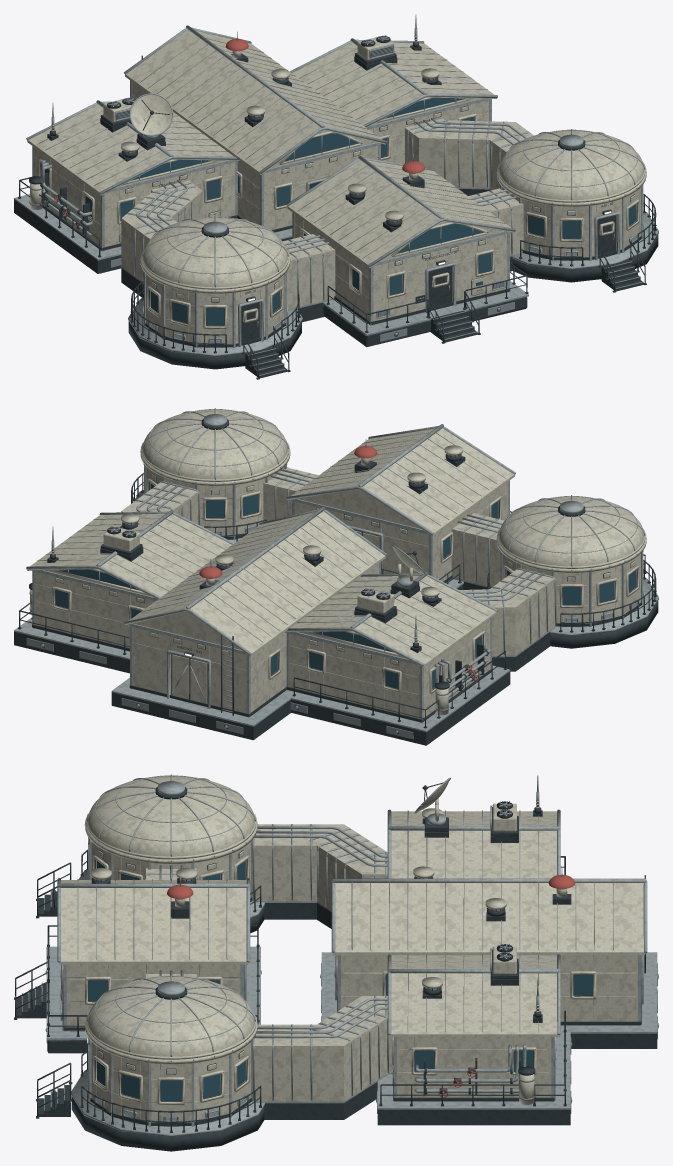
Rendered from SurfaceResearchStation_LOD1.fbx.
3 renders of one model, top to bottom at view 1: azimuth 30°, elevation 25°; view 2: azimuth 150°, elevation 25°; view 3: azimuth 270°, elevation 25°, orthographic. The views are drawn at different scales.
Visible parts, largest first — view 1: LOD1_Research_Spine__Roofs__IvoryPaint, LOD1_Command_Access__Roofs__IvoryPaint, LOD1_West_Laboratory__Roofs__IvoryPaint, LOD1_East_Laboratory__Roofs__IvoryPaint, LOD1_West_Habitat__Roofs__IvoryPaint, LOD1_East_Habitat__Roofs__IvoryPaint, LOD1_Command_Access__Shell__IvoryPaint, LOD1_East_Rear_Link__Shell__IvoryPaint, LOD1_West_Laboratory__Shell__IvoryPaint, LOD1_Research_Spine__Shell__IvoryPaint, LOD1_Research_Spine__Roofs__RoofAlloy, LOD1_West_Habitat__Shell__IvoryPaint (+55 smaller); view 2: LOD1_Research_Spine__Roofs__IvoryPaint, LOD1_Command_Access__Roofs__IvoryPaint, LOD1_Research_Spine__Shell__IvoryPaint, LOD1_West_Laboratory__Roofs__IvoryPaint, LOD1_East_Laboratory__Roofs__IvoryPaint, LOD1_West_Habitat__Roofs__IvoryPaint, LOD1_East_Habitat__Roofs__IvoryPaint, LOD1_West_Laboratory__Shell__IvoryPaint, LOD1_Rear_Shared_Foundation__Decks__Graphite, LOD1_Command_Access__Shell__IvoryPaint, LOD1_East_Laboratory__Shell__IvoryPaint, LOD1_Rear_Shared_Foundation__Decks__RoofAlloy (+45 smaller); view 3: LOD1_Research_Spine__Roofs__IvoryPaint, LOD1_Command_Access__Roofs__IvoryPaint, LOD1_East_Laboratory__Roofs__IvoryPaint, LOD1_East_Habitat__Roofs__IvoryPaint, LOD1_West_Habitat__Roofs__IvoryPaint, LOD1_West_Laboratory__Roofs__IvoryPaint, LOD1_East_Rear_Link__Shell__IvoryPaint, LOD1_West_Rear_Link__Shell__IvoryPaint, LOD1_East_Laboratory__Shell__IvoryPaint, LOD1_Research_Spine__Shell__IvoryPaint, LOD1_Rear_Shared_Foundation__Decks__RoofAlloy, LOD1_East_Habitat__Shell__IvoryPaint (+35 smaller).
Boxes of the visible parts, x1,y1,x2,y2 form: LOD1_Research_Spine__Roofs__IvoryPaint: (125,29,385,174); LOD1_Command_Access__Roofs__IvoryPaint: (287,160,514,268); LOD1_West_Laboratory__Roofs__IvoryPaint: (27,94,239,195); LOD1_East_Laboratory__Roofs__IvoryPaint: (292,35,496,127); LOD1_West_Habitat__Roofs__IvoryPaint: (140,217,290,293); LOD1_East_Habitat__Roofs__IvoryPaint: (497,130,646,206); LOD1_Command_Access__Shell__IvoryPaint: (294,214,507,324); LOD1_East_Rear_Link__Shell__IvoryPaint: (405,118,533,189); LOD1_West_Laboratory__Shell__IvoryPaint: (34,147,235,250); LOD1_Research_Spine__Shell__IvoryPaint: (131,82,378,232); LOD1_Research_Spine__Roofs__RoofAlloy: (124,25,386,173); LOD1_West_Habitat__Shell__IvoryPaint: (146,274,284,344); LOD1_Research_Spine__Roofs__IvoryPaint: (125,511,385,656); LOD1_Command_Access__Roofs__IvoryPaint: (287,428,514,536); LOD1_Research_Spine__Shell__IvoryPaint: (132,563,379,716); LOD1_West_Laboratory__Roofs__IvoryPaint: (284,546,496,667); LOD1_East_Laboratory__Roofs__IvoryPaint: (27,513,231,599); LOD1_West_Habitat__Roofs__IvoryPaint: (497,496,646,572); LOD1_East_Habitat__Roofs__IvoryPaint: (140,409,290,485); LOD1_West_Laboratory__Shell__IvoryPaint: (289,619,490,722); LOD1_Rear_Shared_Foundation__Decks__Graphite: (14,632,510,745); LOD1_Command_Access__Shell__IvoryPaint: (295,482,508,581); LOD1_East_Laboratory__Shell__IvoryPaint: (35,570,155,651); LOD1_Rear_Shared_Foundation__Decks__RoofAlloy: (14,617,510,732); LOD1_Research_Spine__Roofs__IvoryPaint: (333,866,645,955); LOD1_Command_Access__Roofs__IvoryPaint: (59,868,248,964); LOD1_East_Laboratory__Roofs__IvoryPaint: (389,946,558,1036); LOD1_East_Habitat__Roofs__IvoryPaint: (85,976,257,1064); LOD1_West_Habitat__Roofs__IvoryPaint: (85,776,257,863); LOD1_West_Laboratory__Roofs__IvoryPaint: (391,779,556,878); LOD1_East_Rear_Link__Shell__IvoryPaint: (253,996,393,1101); LOD1_West_Rear_Link__Shell__IvoryPaint: (254,824,387,910); LOD1_East_Laboratory__Shell__IvoryPaint: (397,1037,551,1101); LOD1_Research_Spine__Shell__IvoryPaint: (341,955,637,1025); LOD1_Rear_Shared_Foundation__Decks__RoofAlloy: (321,876,657,1109); LOD1_East_Habitat__Shell__IvoryPaint: (91,1042,250,1122).
Size of the model in its own units: 3076 by 802 by 2940.
Materials: 9 (3 with a texture image).
